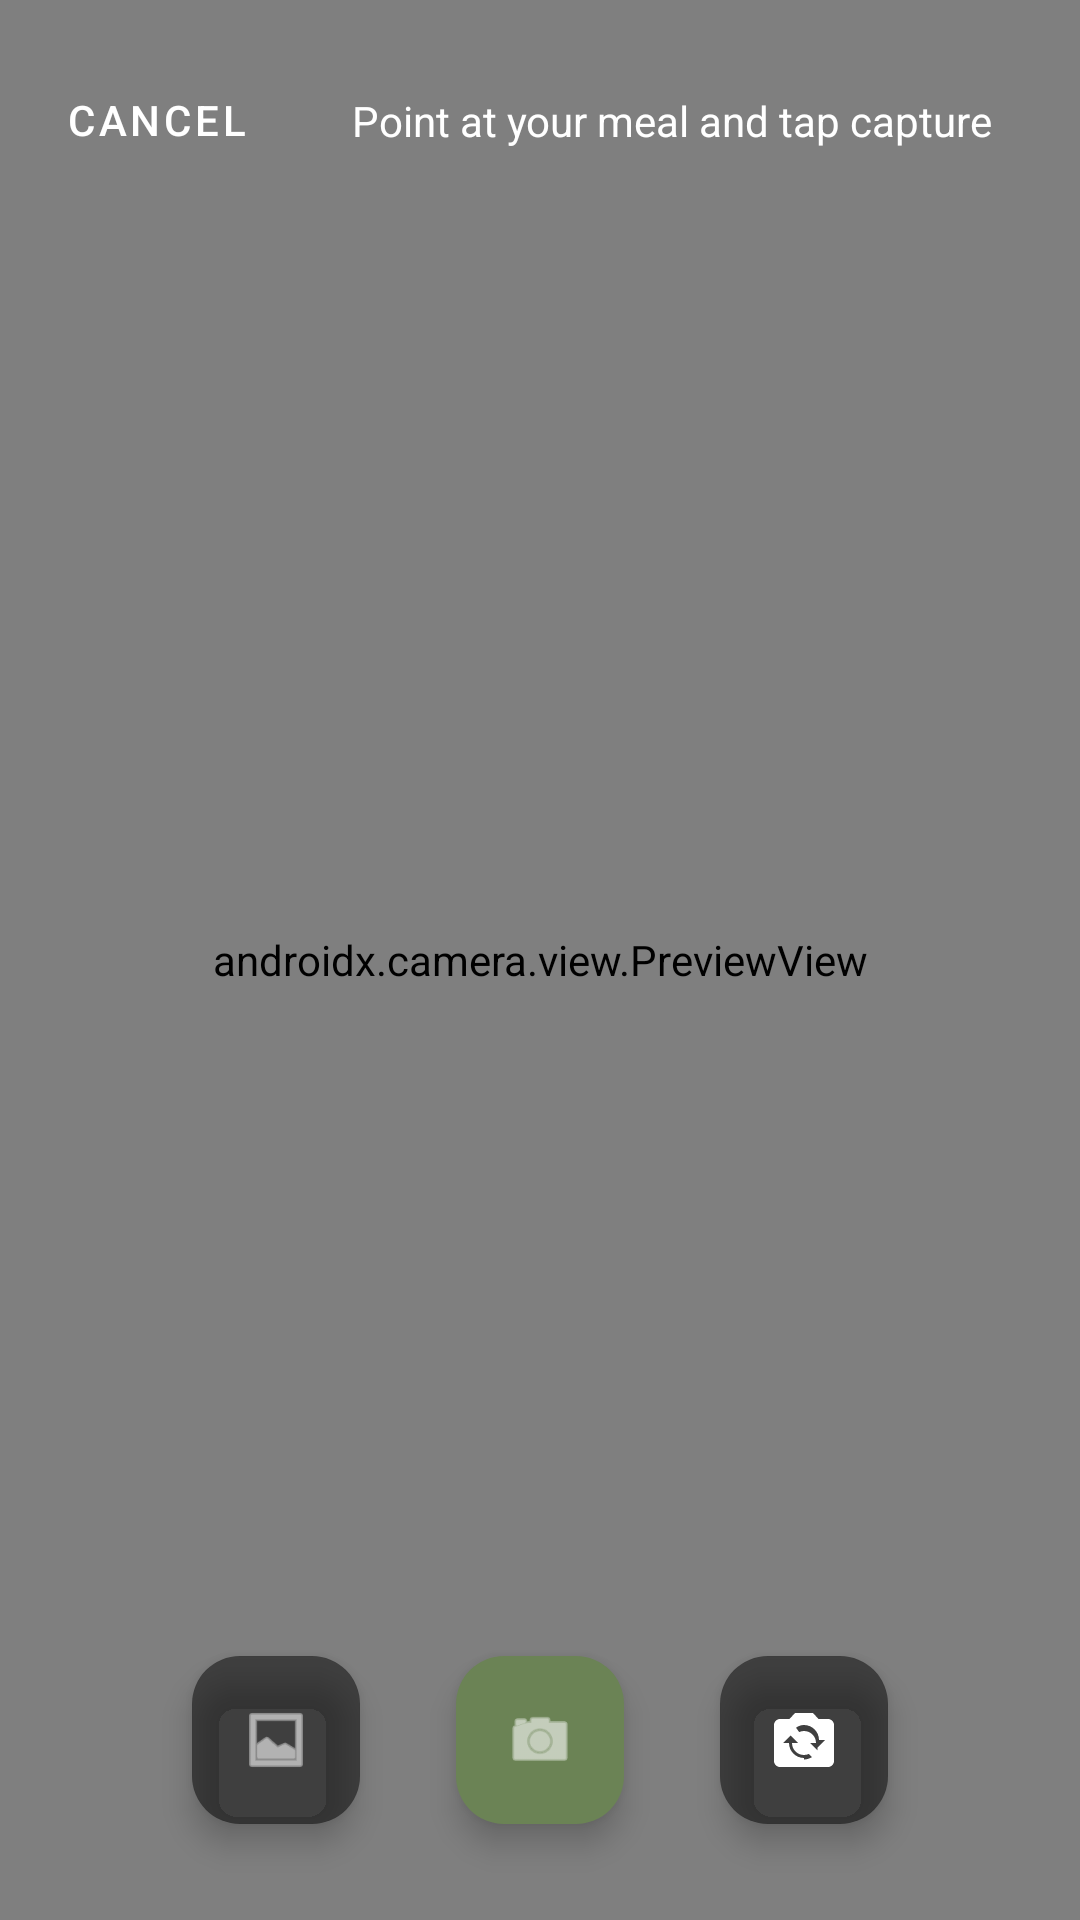

Icon click points for this 1080 x 1920 phone screenshot, format [x,y]:
Capture: [540,1740]
Flip camera: [804,1740]
Pick from gallery: [276,1740]
